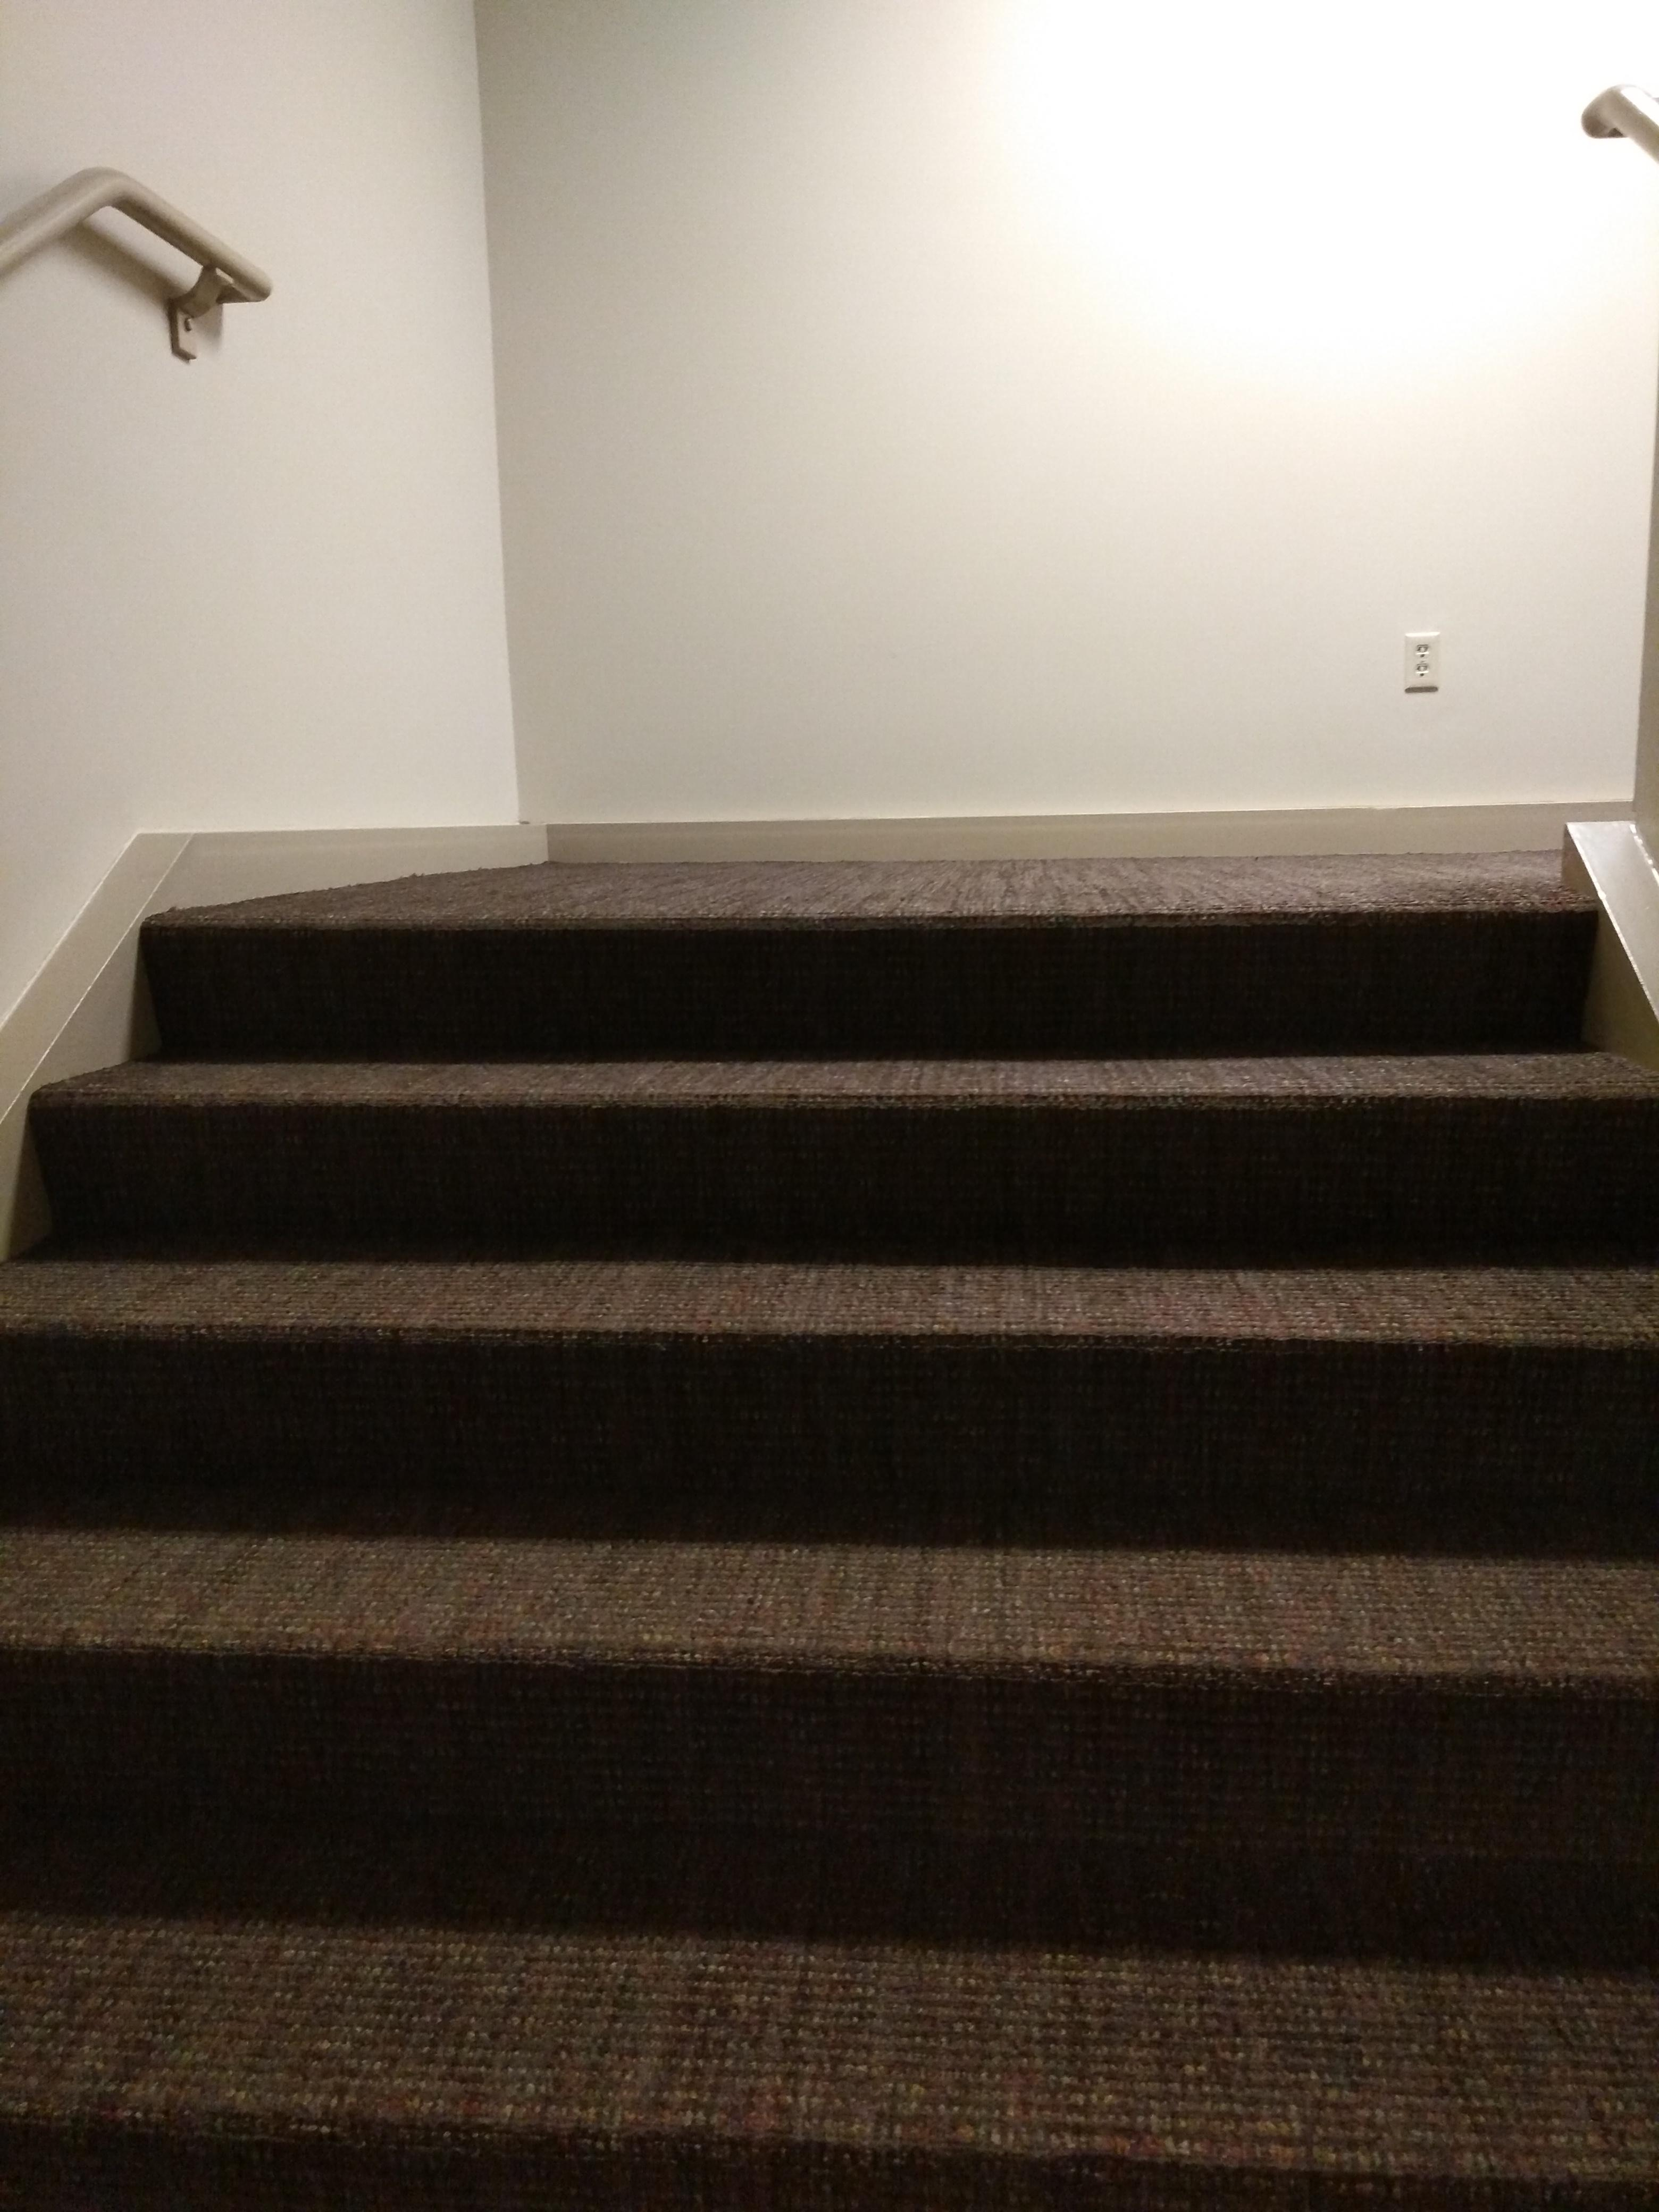stairs_up: (54, 867, 1579, 2076)
